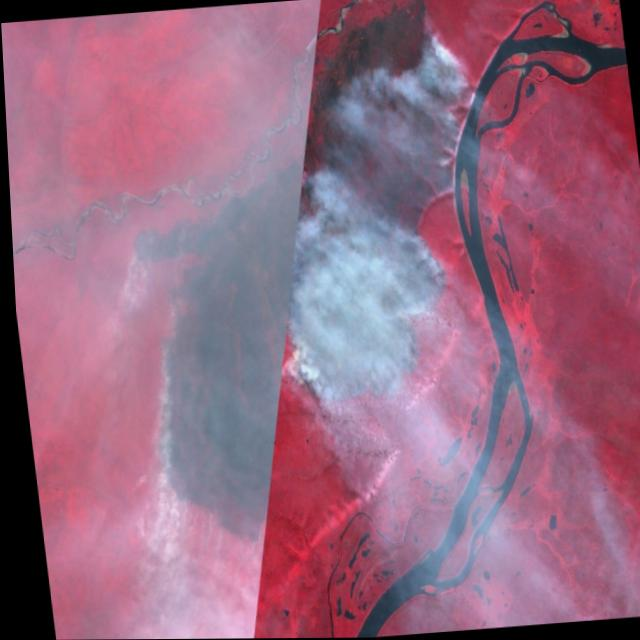fire: (120, 214, 264, 565), (271, 221, 458, 415), (405, 0, 482, 198)
